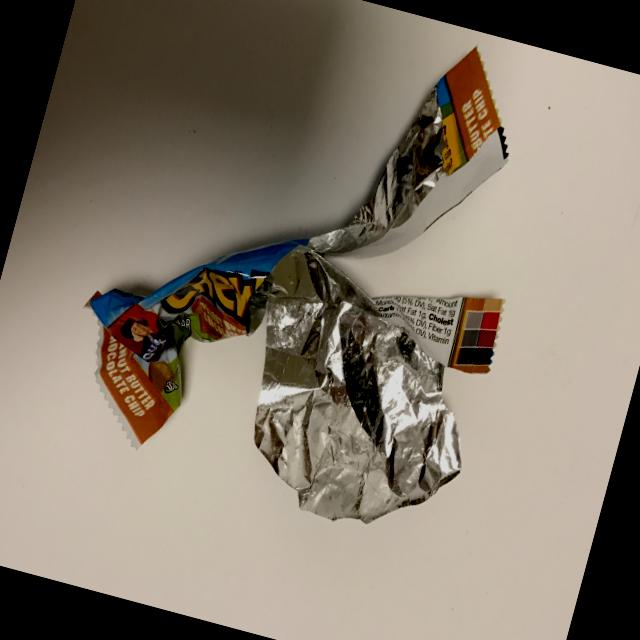Plastic: (16, 0, 624, 638)
